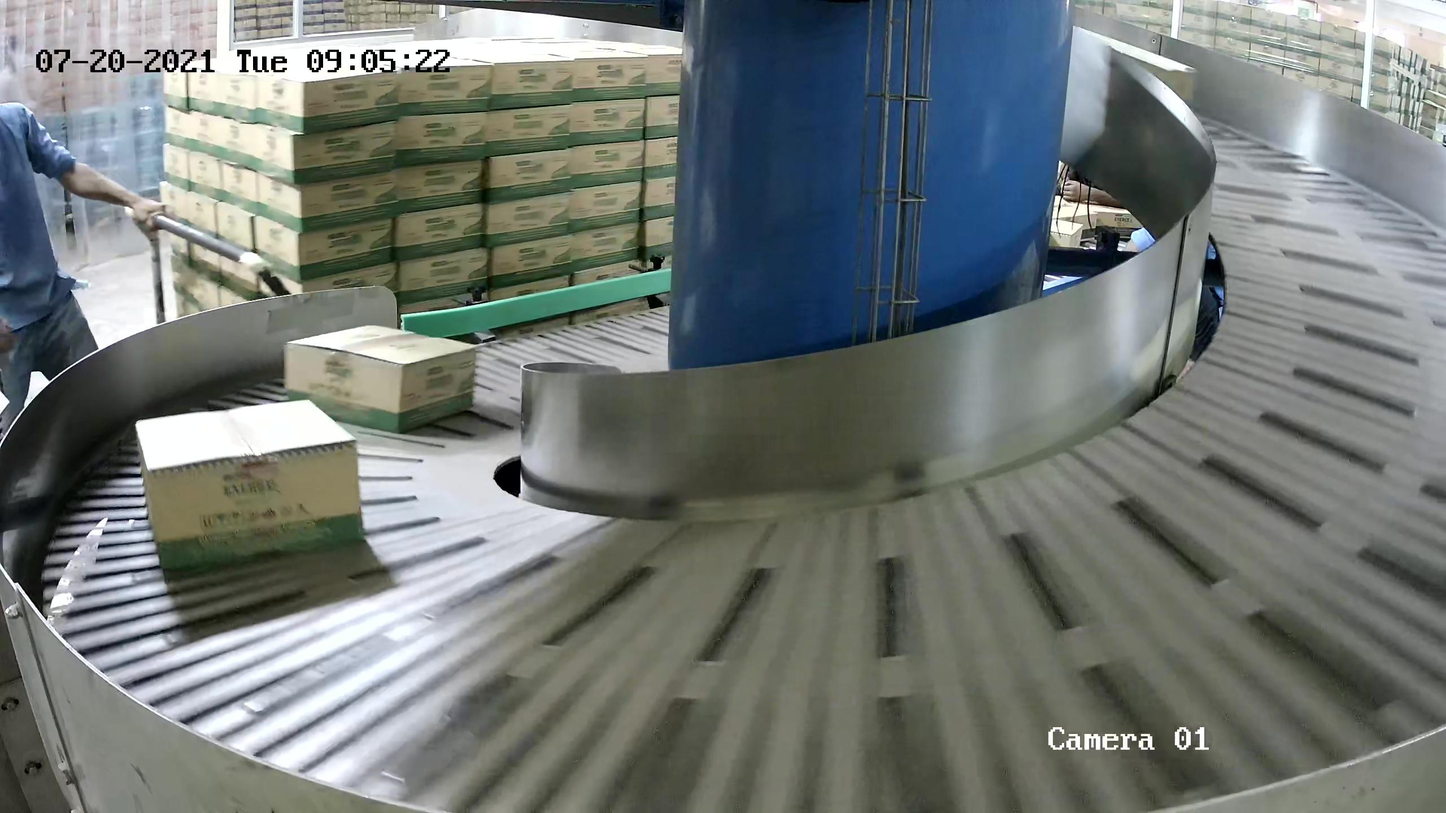Box: (134, 397, 365, 568), (282, 323, 479, 433)
